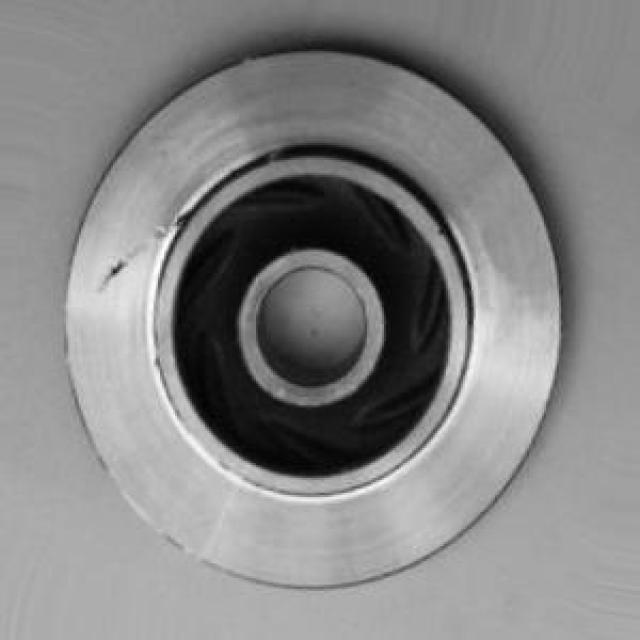Defect: (99, 257, 138, 282)
